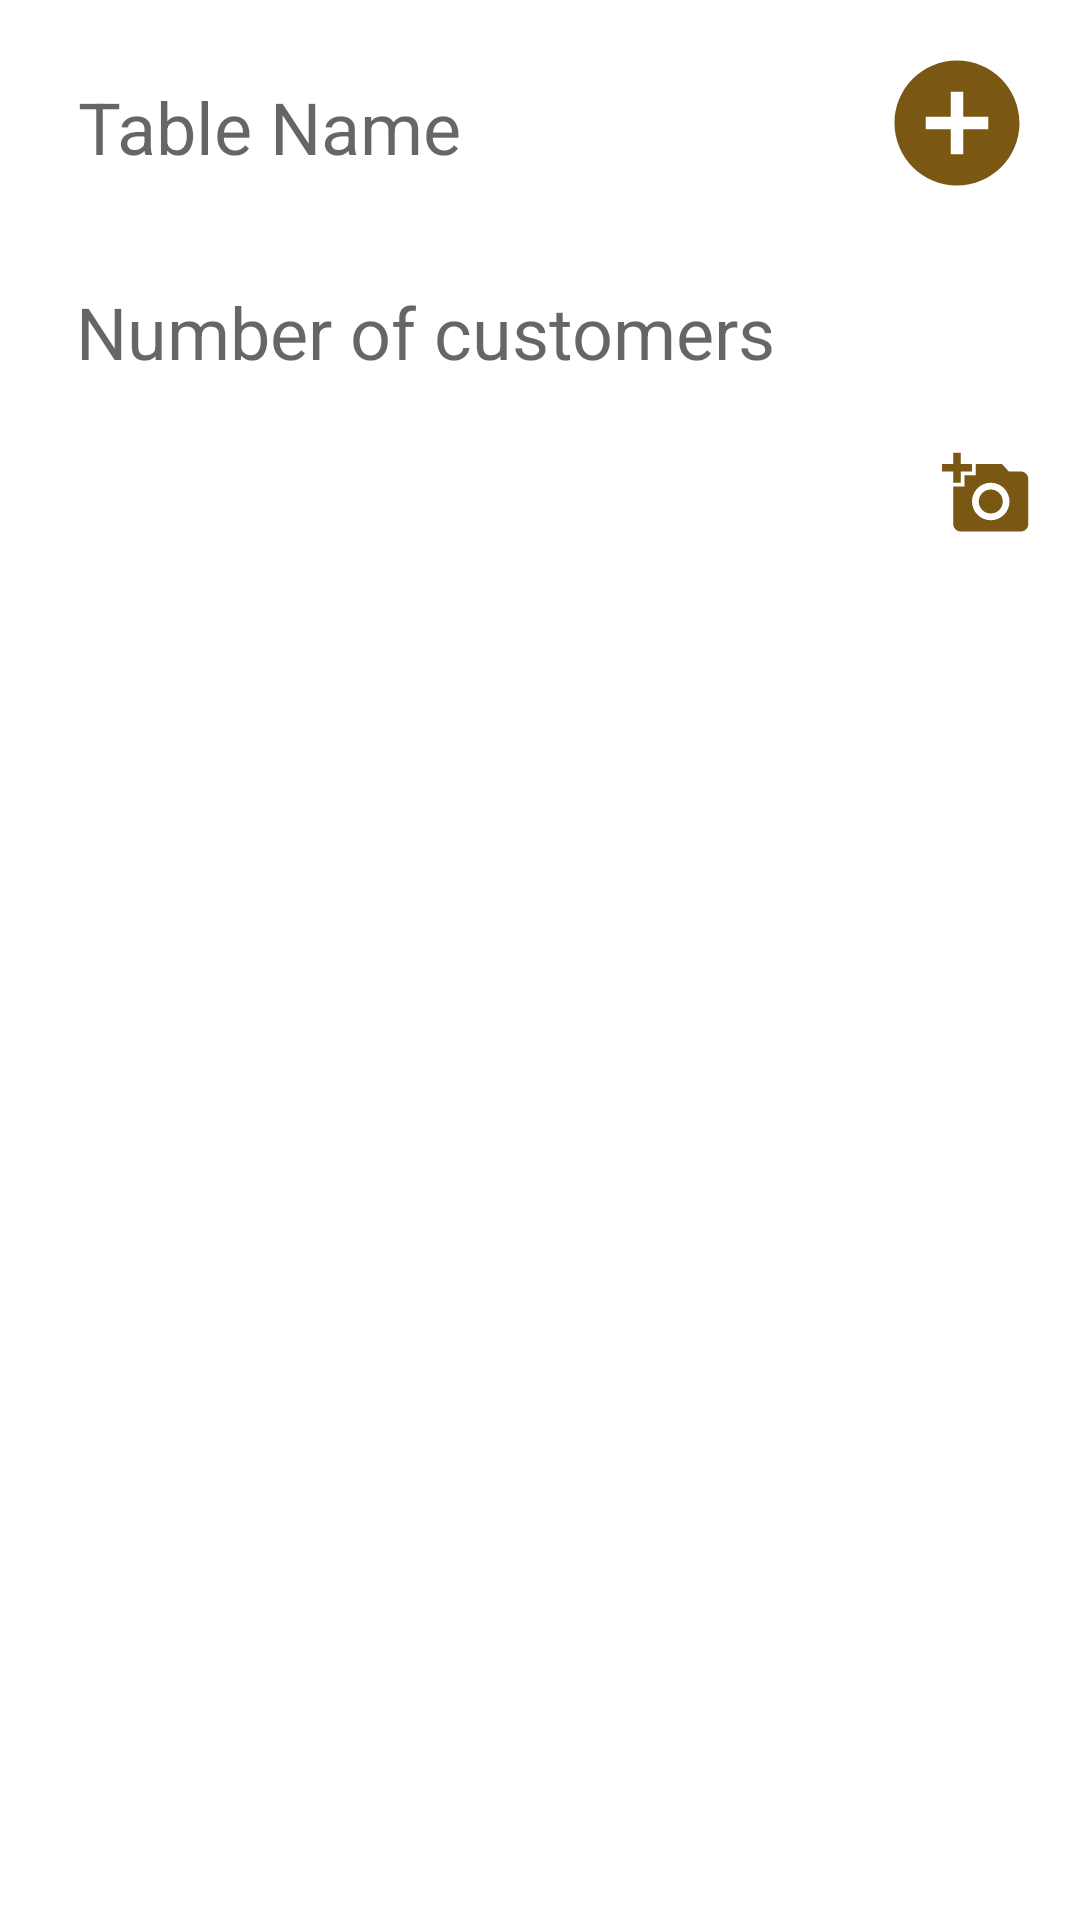

Screen size 1080 x 1920. Icon name, then its box in pixels as Rect(x1, y1, x2, y2):
add circle: Rect(894, 60, 1020, 186)
add photo: Rect(942, 452, 1029, 532)
